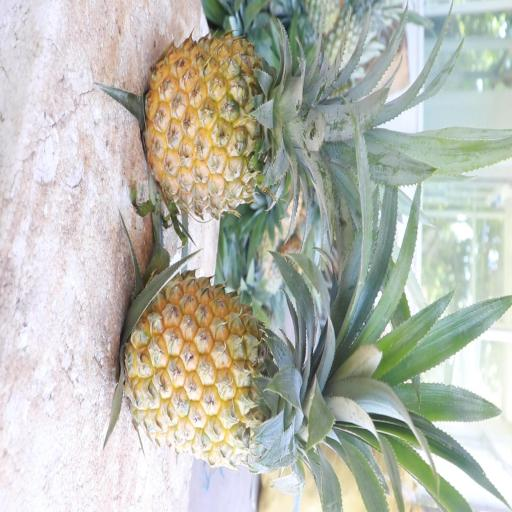Pineapple - v8 v1: (121, 262, 372, 467), (143, 26, 349, 225)
